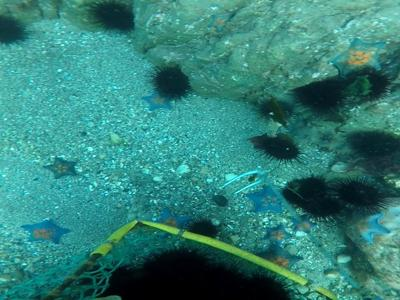urchin: (143, 248, 212, 292), (85, 2, 147, 36), (337, 173, 387, 215), (291, 79, 347, 114), (149, 62, 194, 103), (348, 127, 396, 161), (99, 264, 153, 294), (347, 66, 393, 101), (251, 131, 302, 159), (254, 95, 298, 127), (301, 195, 347, 225), (244, 271, 297, 297), (207, 262, 249, 293), (285, 174, 328, 201), (1, 13, 27, 47), (188, 219, 220, 238)
